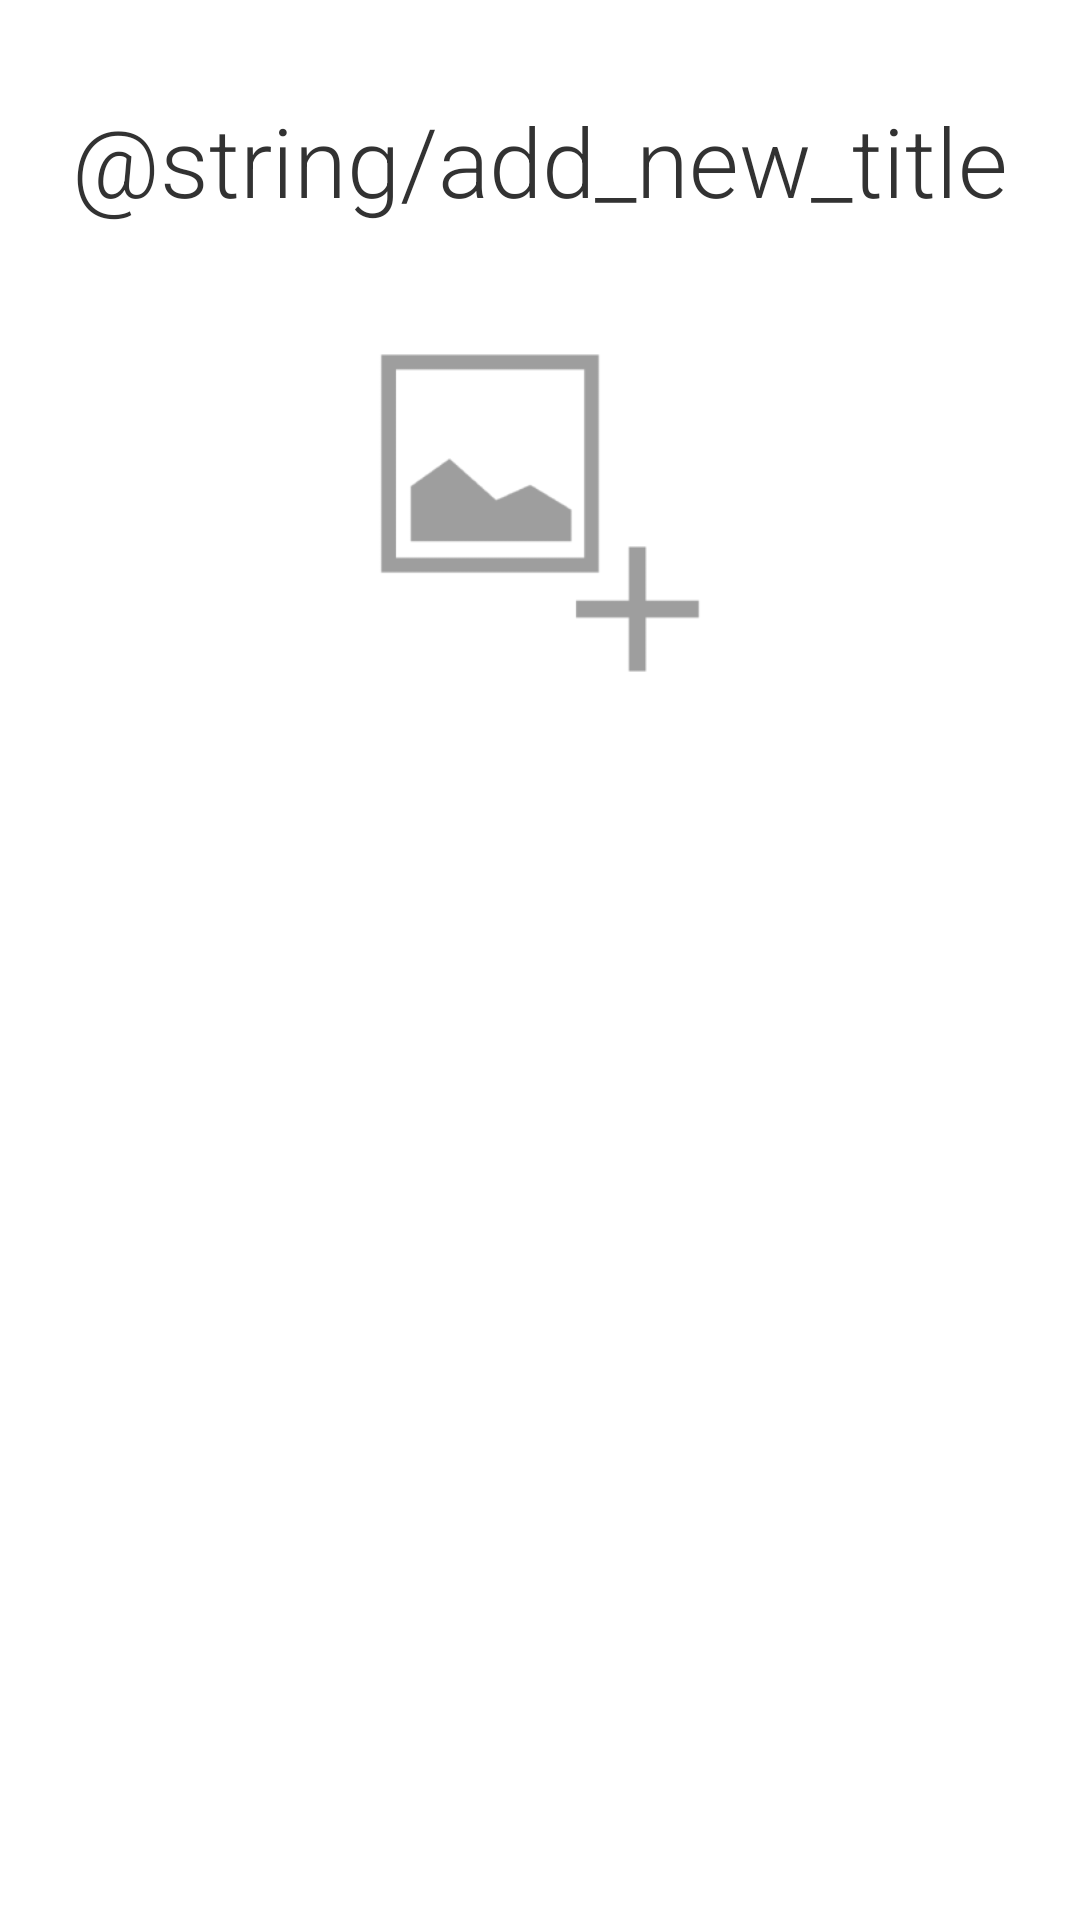

Named icons in this screenshot (1080*1920) and their bounding boxes, (x1, y1, x2, y2):
content picture: (381, 354, 699, 672)
